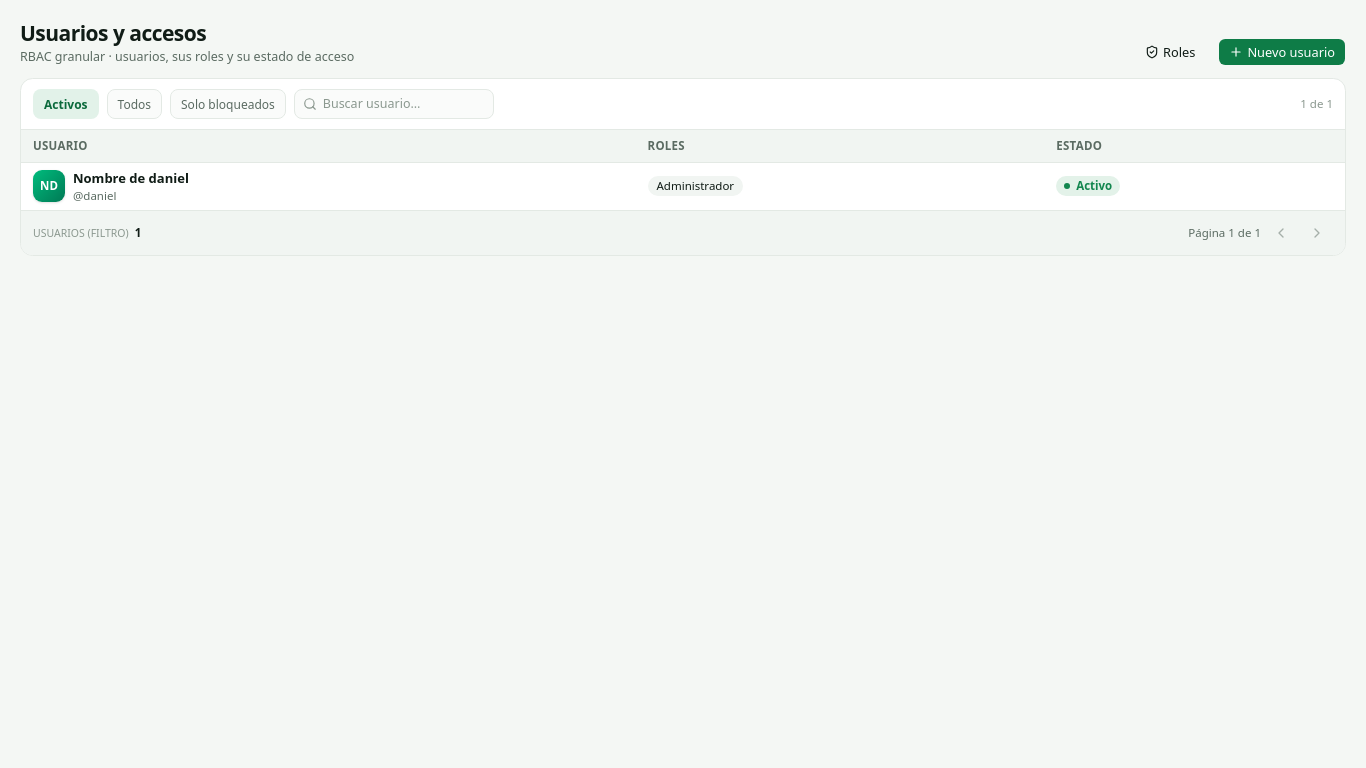
Test: <UsuariosPagina> › aviso anti-lockout (quitar la administración) › avisa en la edición al desmarcar el rol que da la administración, y se va al remarcarlo
Click the row with test id "fila-usuario" at (683, 186), box [21,162,1345,210]
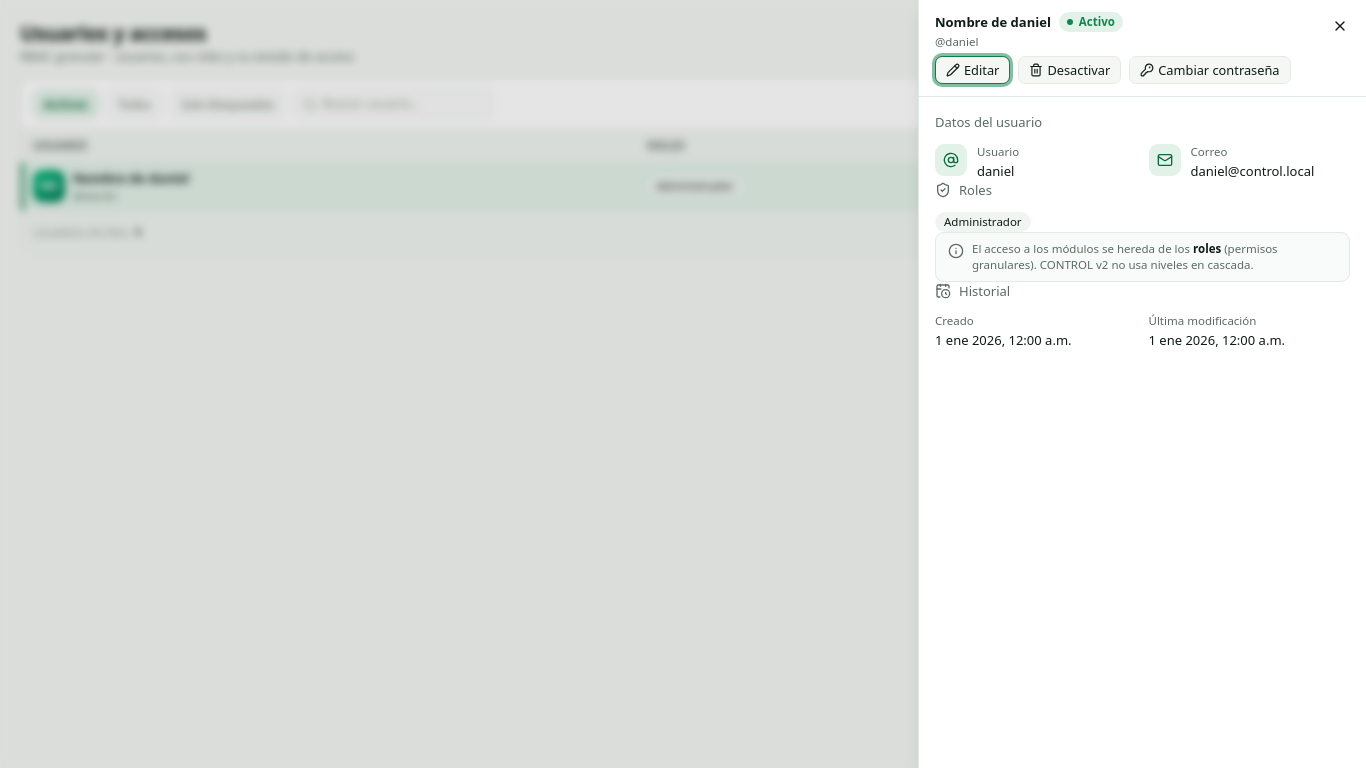
Click the button with test id "editar-usuario" at (973, 70), box [935,56,1010,84]
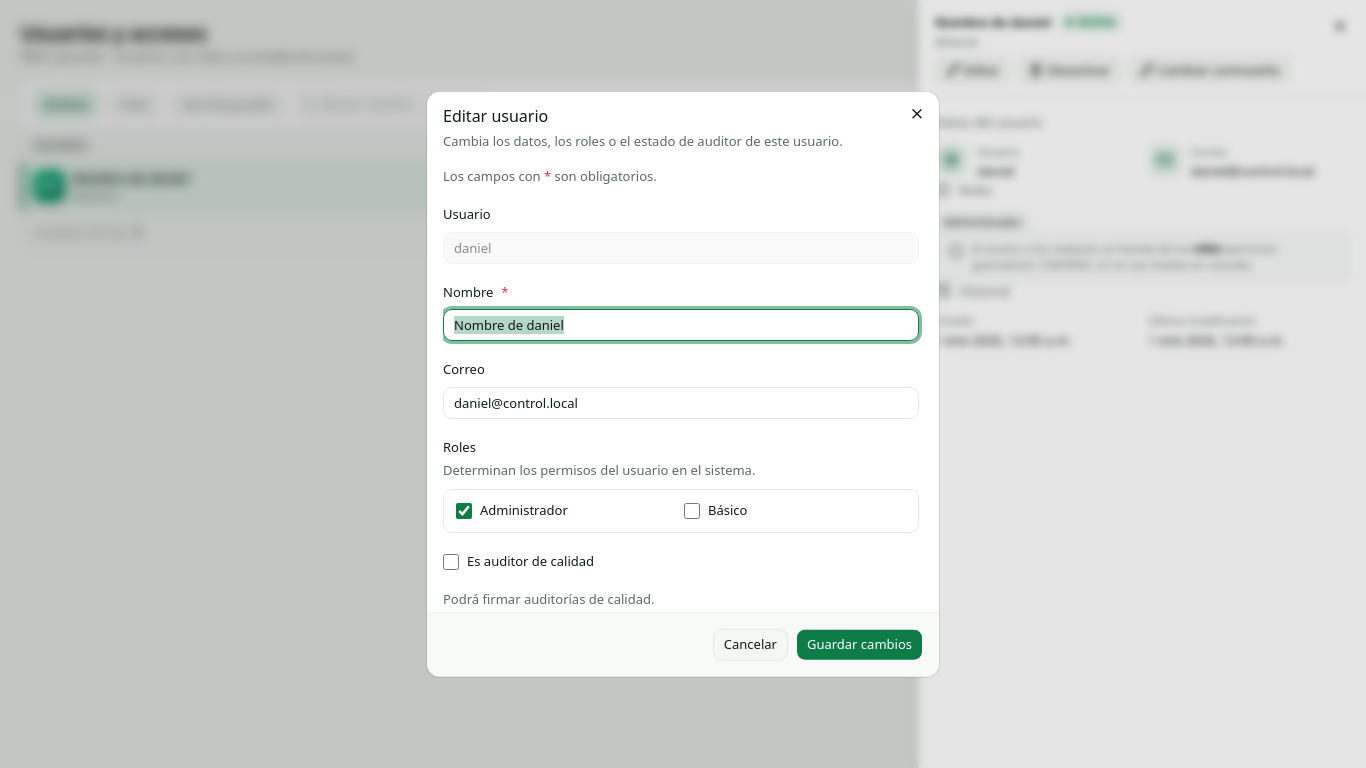
Click the checkbox with test id "rol-opcion-1" at (464, 510), box [456,502,472,518]
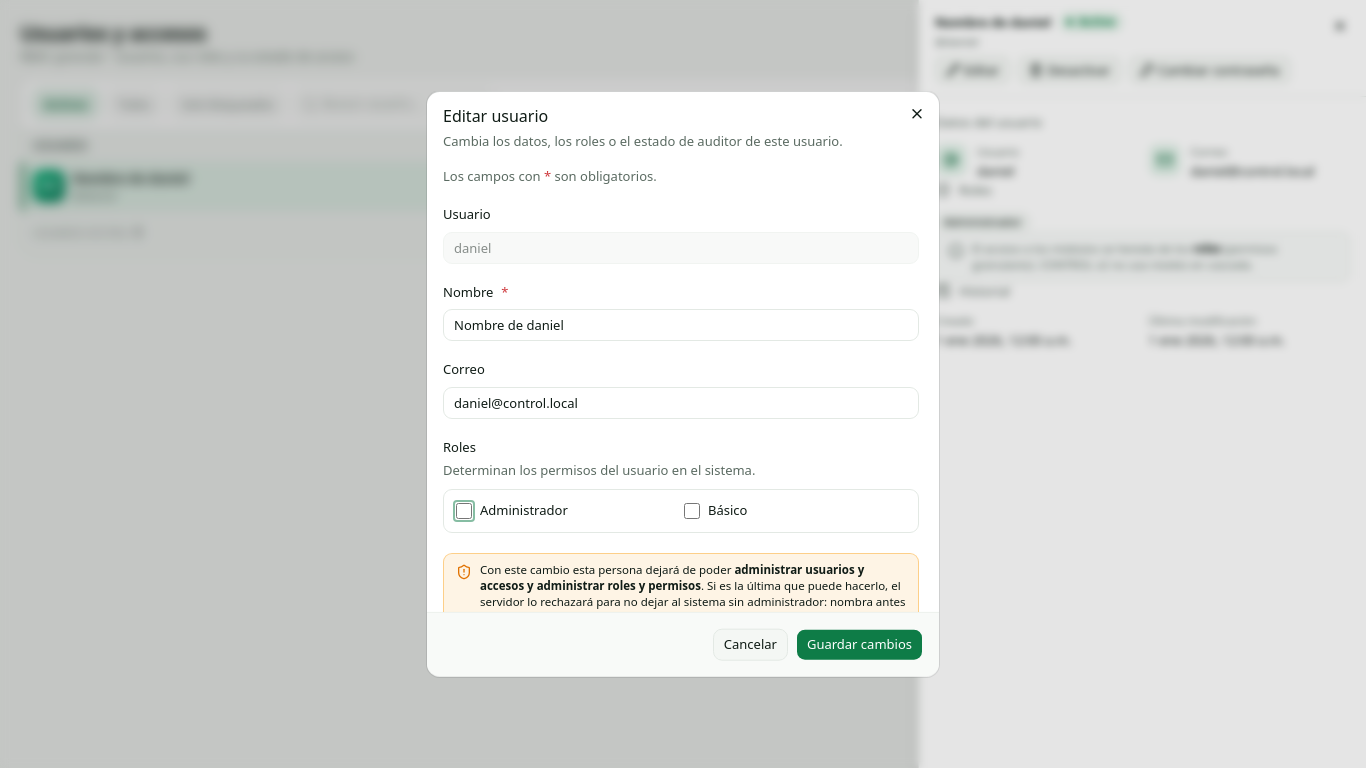
Now the button with test id "guardar-usuario" is enabled, box [796,628,923,660]
Now the element with test id "aviso-quita-administracion" shows "administrar usuarios y accesos", box [480,561,864,592]
Click the checkbox with test id "rol-opcion-1" at (464, 510), box [456,502,472,518]
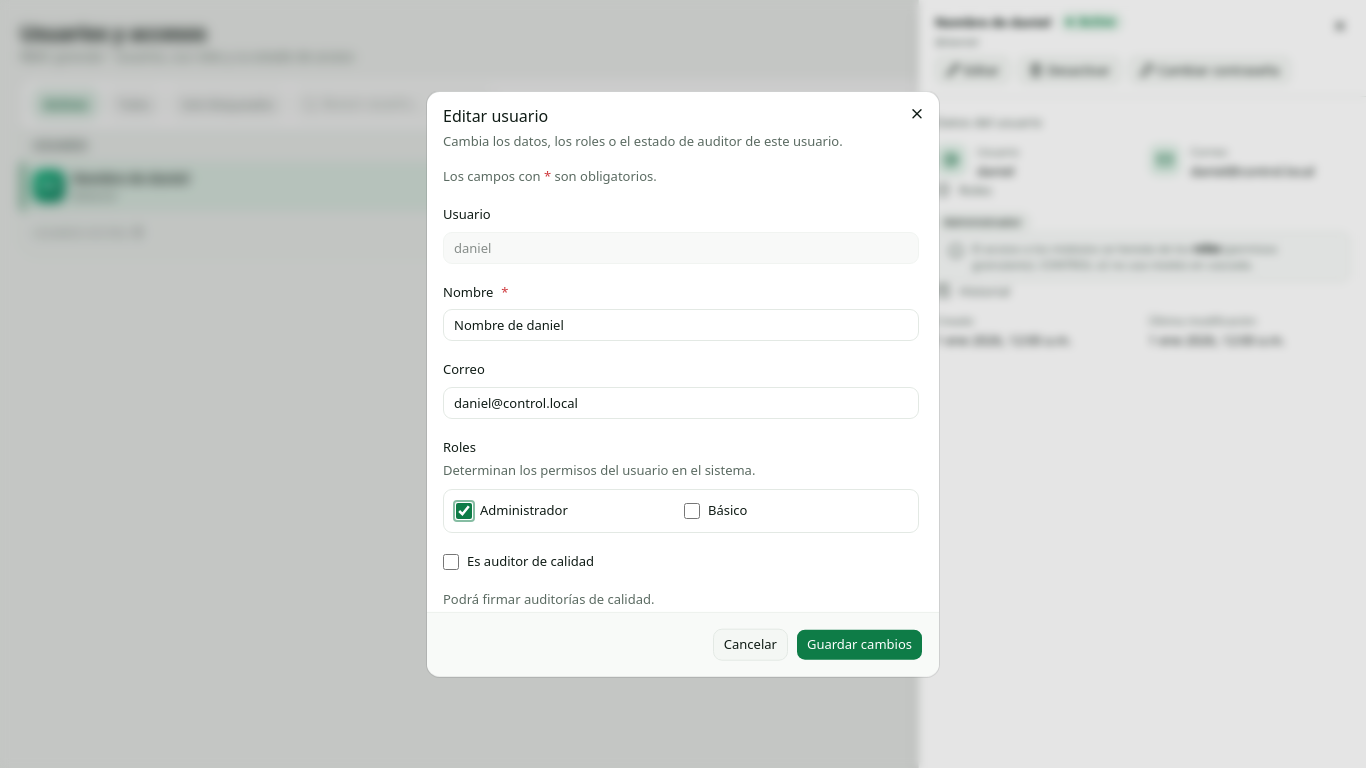
Now the element with test id "aviso-quita-administracion" is gone
